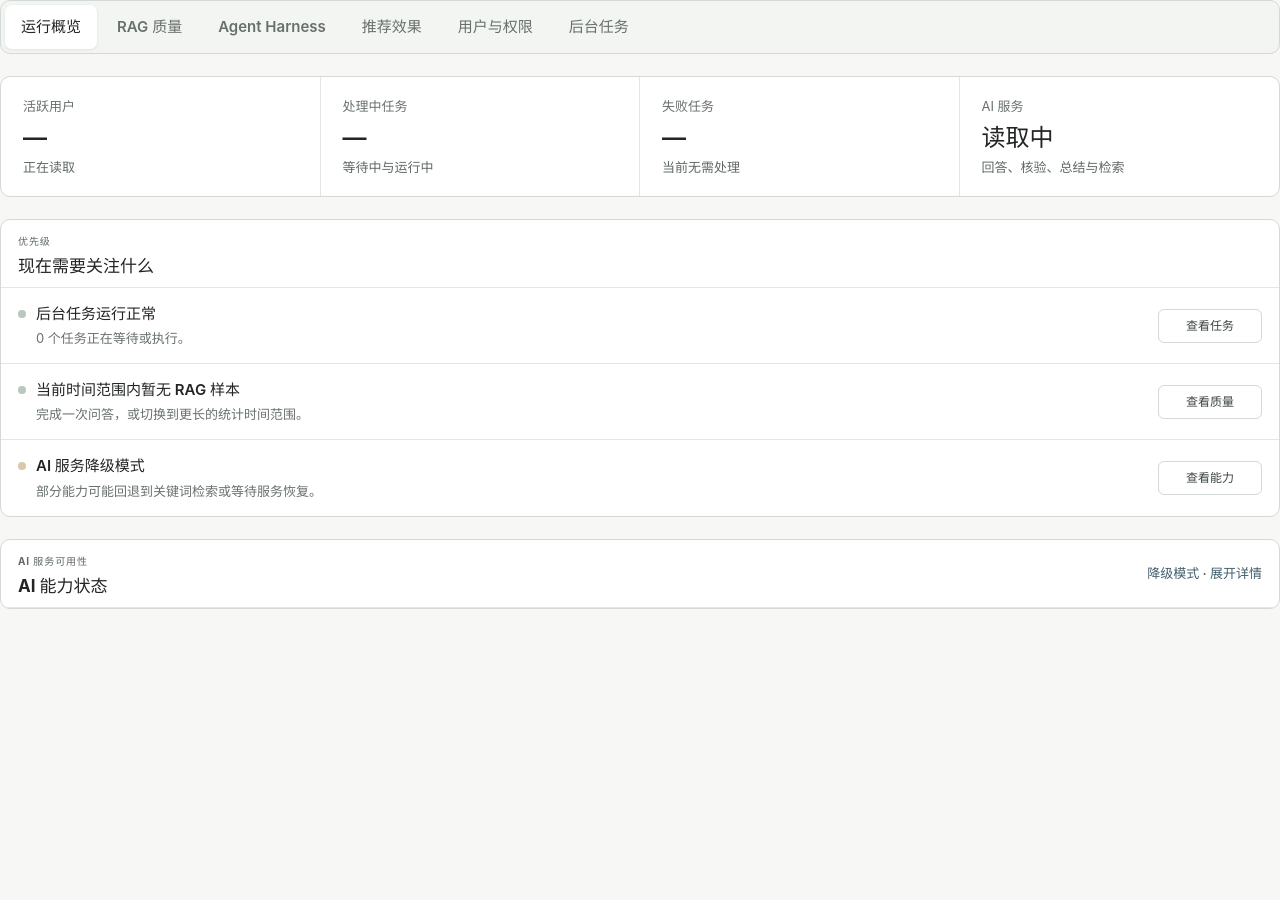
Test: AdminView 管理信息语义 › 单独展示推荐点击率、兴趣命中率和清晰口径
The width and height of the screenshot is (1280, 900).
What coordinates should you click on to do the following:
click the tab "推荐效果"
I would click on:
 (392, 27)
Its box is [346,5,438,49].
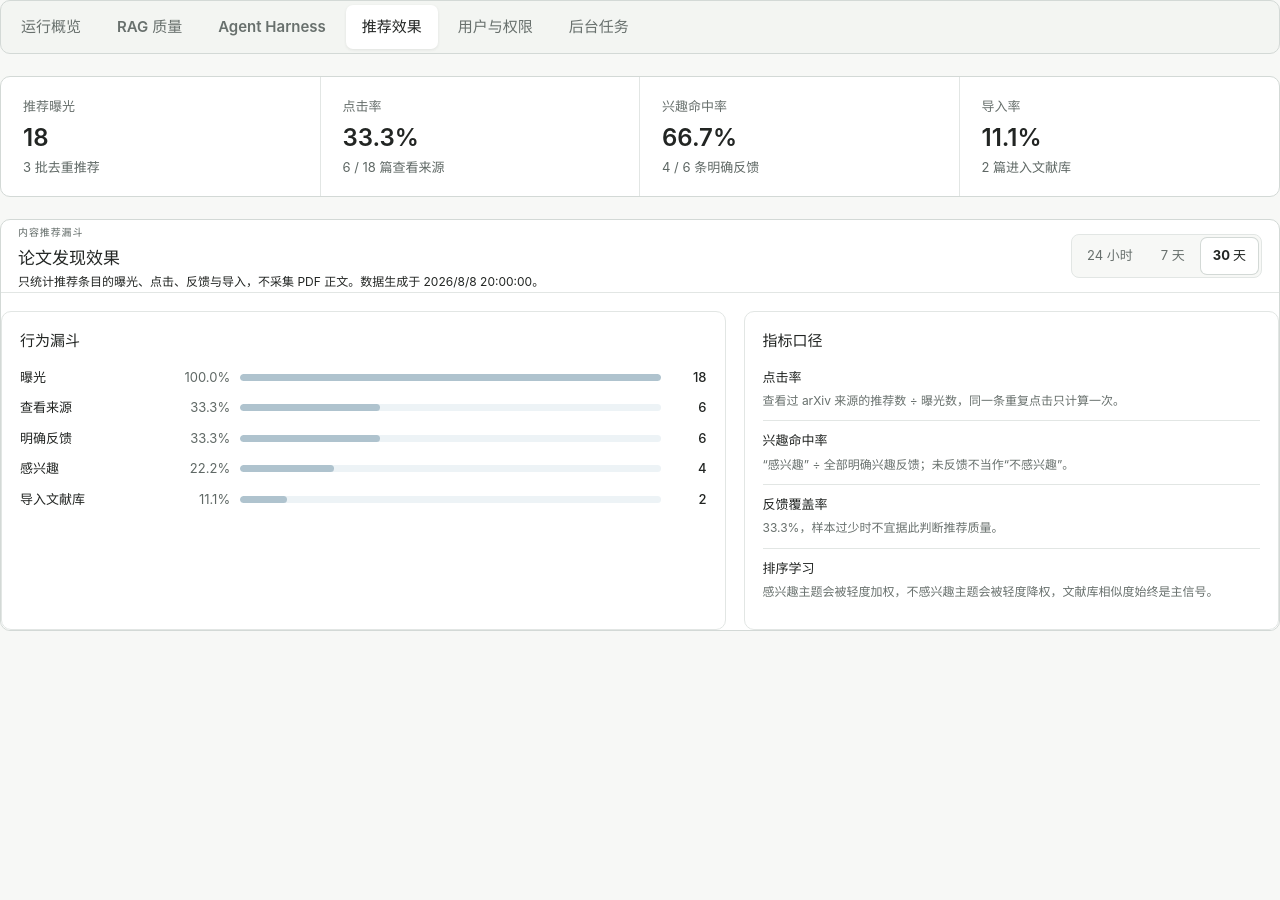
Check: the heading "论文发现效果" is shown, box [18,248,120,268]
Check: the text "4 / 6 条明确反馈" is shown, box [662,159,759,175]
Check: the text "“感兴趣” ÷ 全部明确兴趣反馈；未反馈不当作“不感兴趣”。" is shown, box [762,457,1074,472]
